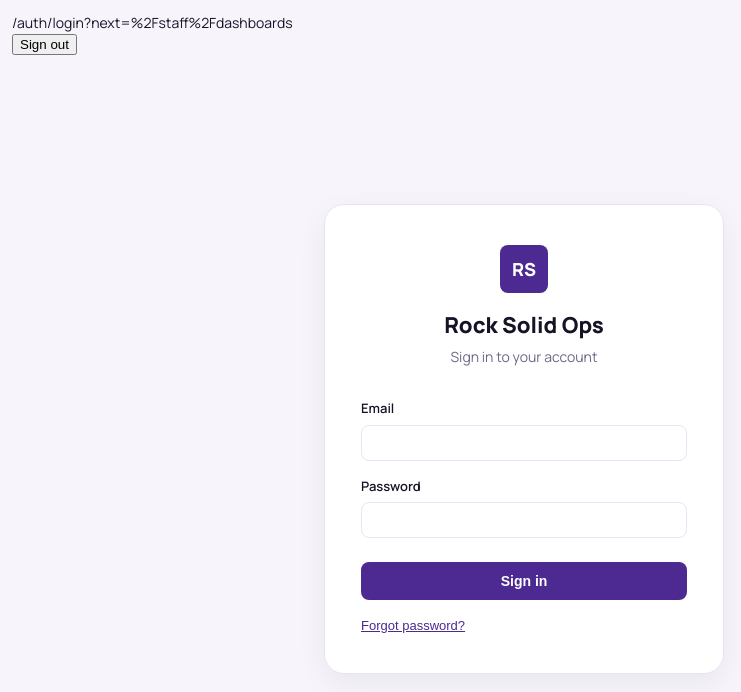
Scenario: first-login race › admin lands on the dashboard on the first attempt when the profile loads late
Type "admin@rso.test" into the field labelled "Email" at (524, 442), box [361,424,687,460]
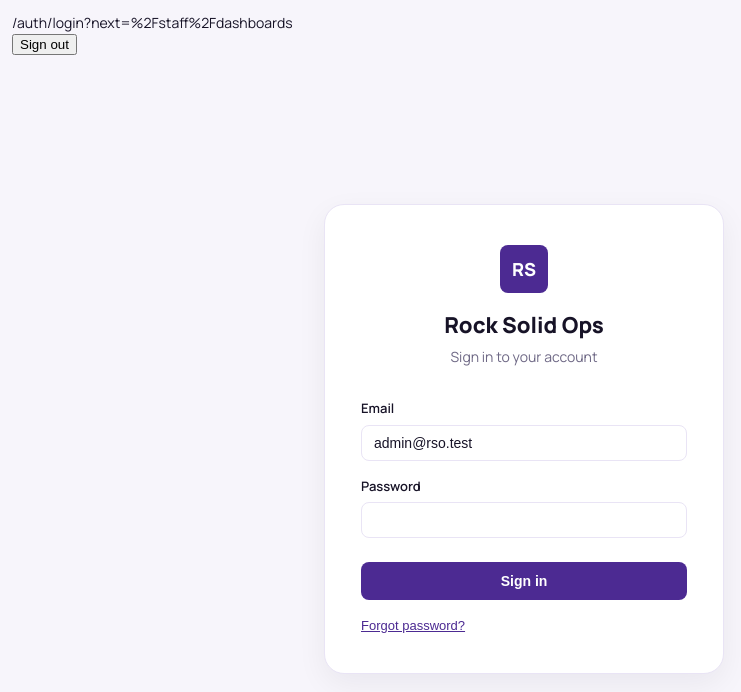
Type "admin-pass" into the password field labelled "Password" at (524, 520), box [361,502,687,538]
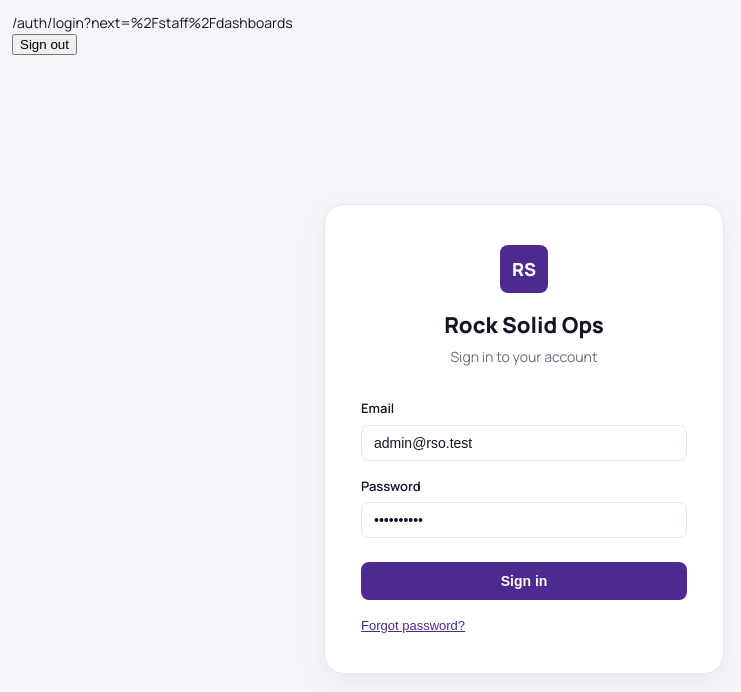
Click the button "Sign in" at (524, 581), box [361,562,687,600]
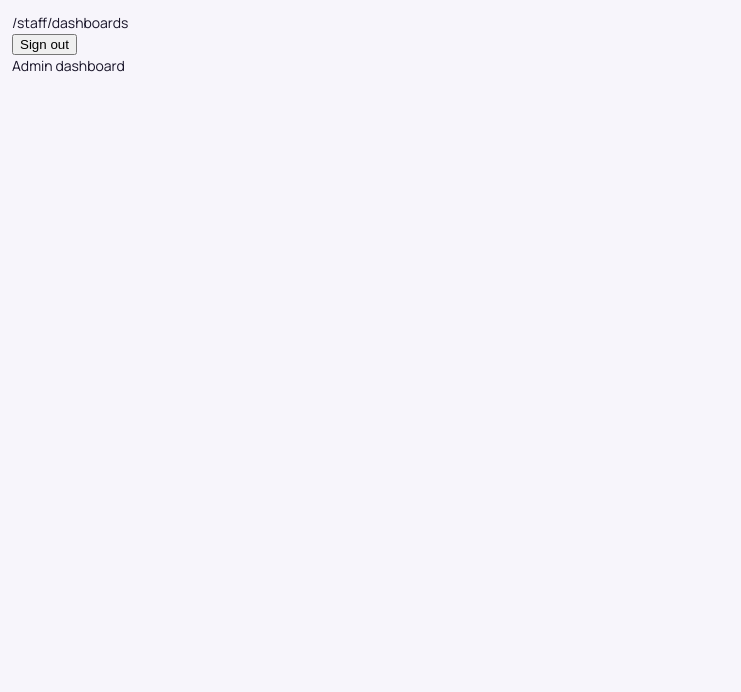
Expected: the text "Admin dashboard" is shown, [12,56,125,75]
